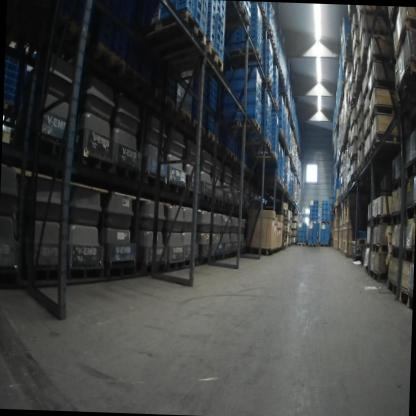pallet: (147, 7, 208, 50), (163, 44, 225, 73), (92, 40, 128, 74), (394, 18, 416, 63), (396, 56, 416, 102), (363, 53, 394, 79), (230, 46, 263, 70), (359, 28, 389, 53), (370, 131, 400, 155), (370, 102, 395, 129), (225, 3, 251, 28), (68, 265, 103, 283), (80, 152, 111, 172), (33, 135, 62, 155), (110, 162, 141, 179), (230, 118, 261, 135), (105, 263, 137, 279), (142, 170, 167, 190), (154, 89, 175, 112), (383, 226, 394, 266), (35, 266, 57, 283), (246, 138, 272, 152), (369, 80, 391, 96), (397, 289, 413, 309), (175, 103, 192, 121), (372, 213, 391, 228), (146, 260, 165, 275), (195, 117, 207, 139), (405, 155, 416, 179), (386, 280, 399, 300), (205, 130, 219, 147), (167, 181, 186, 193), (362, 40, 371, 65), (405, 200, 416, 220), (369, 269, 387, 281), (263, 25, 275, 43), (257, 152, 278, 162), (226, 149, 240, 162), (184, 256, 198, 269), (186, 187, 201, 199), (404, 247, 415, 263), (168, 260, 184, 271), (264, 176, 281, 186), (364, 148, 374, 165), (391, 211, 401, 227), (372, 243, 385, 254), (352, 24, 359, 44), (349, 92, 357, 109), (393, 175, 401, 191), (354, 57, 361, 75), (362, 83, 369, 101), (260, 2, 267, 20), (218, 140, 226, 155), (350, 135, 358, 150), (358, 72, 365, 89), (349, 154, 358, 167), (350, 120, 358, 134), (201, 192, 212, 202), (350, 169, 358, 182), (353, 42, 359, 59), (356, 104, 362, 121), (357, 237, 367, 247), (266, 78, 273, 92), (364, 126, 370, 142), (363, 106, 369, 122), (357, 162, 364, 175), (276, 130, 285, 140), (223, 251, 233, 260), (350, 77, 355, 94), (239, 164, 248, 173), (214, 198, 224, 206), (358, 141, 365, 152), (269, 40, 276, 51), (213, 254, 224, 261), (223, 200, 233, 207), (279, 179, 285, 189), (358, 123, 364, 133), (201, 258, 208, 265), (275, 99, 279, 110), (278, 63, 282, 74), (321, 220, 331, 224), (297, 243, 306, 247), (308, 243, 317, 247), (319, 243, 328, 247), (308, 220, 317, 224), (283, 209, 289, 215), (283, 184, 287, 192), (282, 243, 287, 248), (283, 218, 289, 222), (366, 243, 370, 249), (286, 190, 290, 196), (345, 252, 348, 259), (284, 214, 289, 218), (283, 222, 288, 226), (283, 226, 288, 230), (283, 230, 288, 234), (283, 234, 287, 239), (282, 239, 287, 243), (233, 252, 237, 257), (338, 247, 341, 252), (339, 225, 342, 230)
small_load_carrier: (239, 103, 258, 120), (180, 1, 197, 20), (161, 5, 180, 22), (242, 65, 260, 82), (99, 32, 116, 50), (222, 67, 241, 82), (241, 92, 259, 106), (241, 79, 259, 92), (196, 13, 207, 34), (223, 91, 242, 103), (204, 111, 218, 126), (206, 95, 219, 109), (223, 102, 241, 112), (206, 35, 217, 51), (117, 45, 128, 61), (206, 16, 215, 35), (196, 2, 208, 16), (223, 81, 241, 90), (206, 76, 218, 89), (215, 25, 224, 42), (208, 2, 217, 19), (215, 41, 224, 57), (207, 87, 218, 98), (262, 101, 270, 116), (245, 42, 260, 50), (218, 16, 226, 30), (248, 29, 261, 37), (262, 49, 272, 59), (258, 99, 264, 115), (247, 36, 259, 44), (263, 94, 270, 107), (233, 29, 241, 40), (261, 117, 270, 126), (257, 112, 263, 125), (263, 64, 270, 75), (269, 95, 274, 110), (261, 129, 269, 138), (263, 59, 272, 67), (271, 112, 278, 122), (259, 74, 263, 89), (278, 108, 283, 119), (278, 118, 284, 127), (270, 120, 277, 127), (264, 42, 270, 50), (278, 95, 284, 103), (260, 88, 263, 102), (271, 89, 278, 95), (301, 231, 307, 238), (279, 102, 284, 110), (301, 222, 306, 230), (297, 231, 303, 237), (312, 234, 318, 240), (297, 236, 302, 243), (321, 210, 326, 217), (269, 121, 272, 132), (298, 224, 302, 232), (269, 110, 272, 120), (273, 82, 278, 88), (325, 210, 331, 215), (326, 205, 331, 211), (321, 205, 326, 211), (324, 237, 329, 243), (321, 229, 326, 235), (325, 215, 329, 222), (269, 132, 272, 141), (301, 238, 306, 243), (312, 227, 317, 232), (309, 207, 314, 212), (314, 200, 319, 205), (311, 231, 317, 235), (322, 215, 326, 221), (321, 238, 325, 244), (271, 75, 274, 82), (308, 230, 312, 235), (307, 235, 312, 239), (307, 239, 312, 243), (313, 238, 317, 243), (326, 224, 330, 229), (321, 224, 326, 228), (322, 200, 326, 205), (325, 234, 330, 238), (310, 216, 314, 221), (313, 212, 318, 216), (313, 223, 317, 227), (327, 201, 331, 205), (325, 229, 329, 233), (314, 216, 317, 221), (314, 207, 317, 212), (321, 235, 325, 238), (310, 212, 313, 216), (314, 205, 318, 208)
